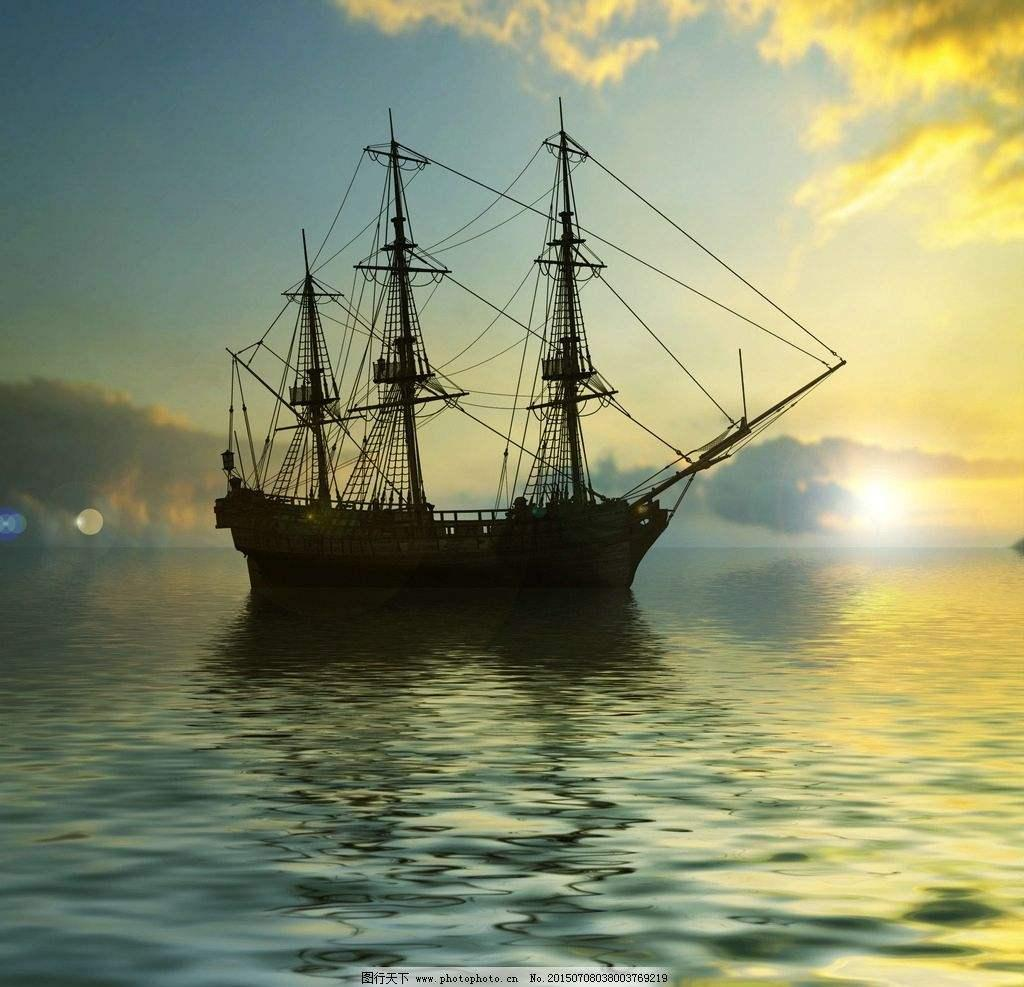fanchuan: (215, 84, 866, 591)
